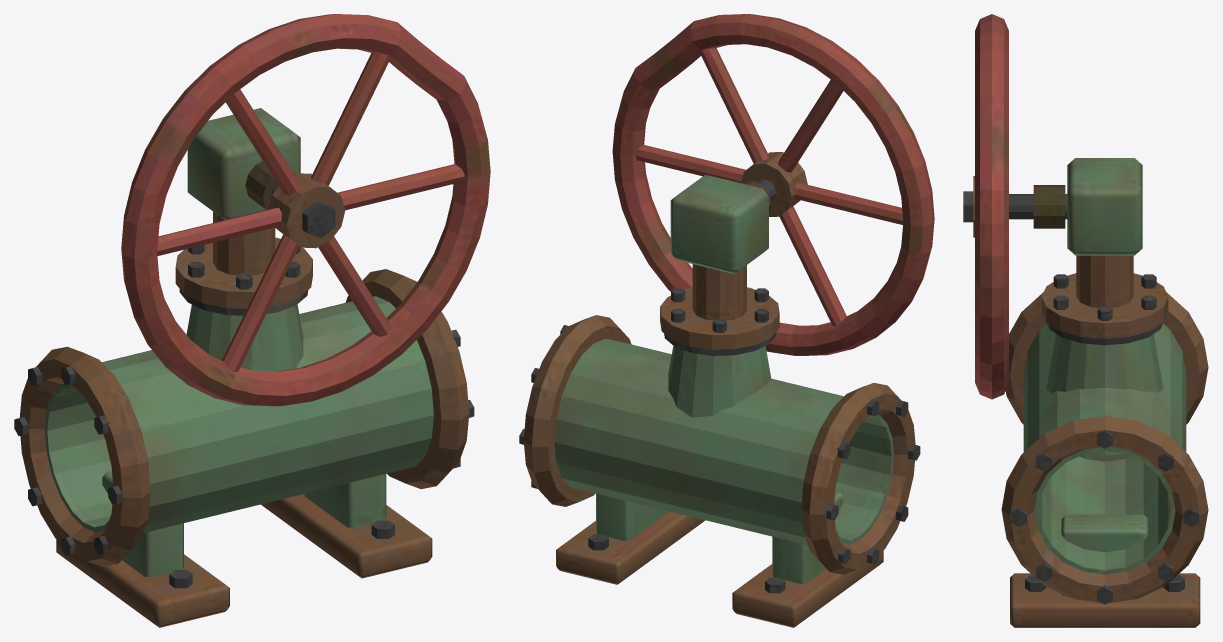
File: Y21_big_sewer_valve.glb
The picture shows the model from 3 angles, left to right: view 1: azimuth 30°, elevation 25°; view 2: azimuth 150°, elevation 25°; view 3: azimuth 270°, elevation 25°; orthographic projection. The views are drawn at different scales.
Parts seen in each view (by area): view 1: Cast mounting foot; view 2: Cast mounting foot; view 3: Cast mounting foot.
Boxes of the visible parts, x1,y1,x2,y2 form: Cast mounting foot: [14, 14, 490, 627]; Cast mounting foot: [519, 14, 934, 627]; Cast mounting foot: [963, 14, 1208, 627].
Size of the model in its own units: 0.9806 by 1.5 by 0.6209.
Materials: 6 (6 with a texture image).
